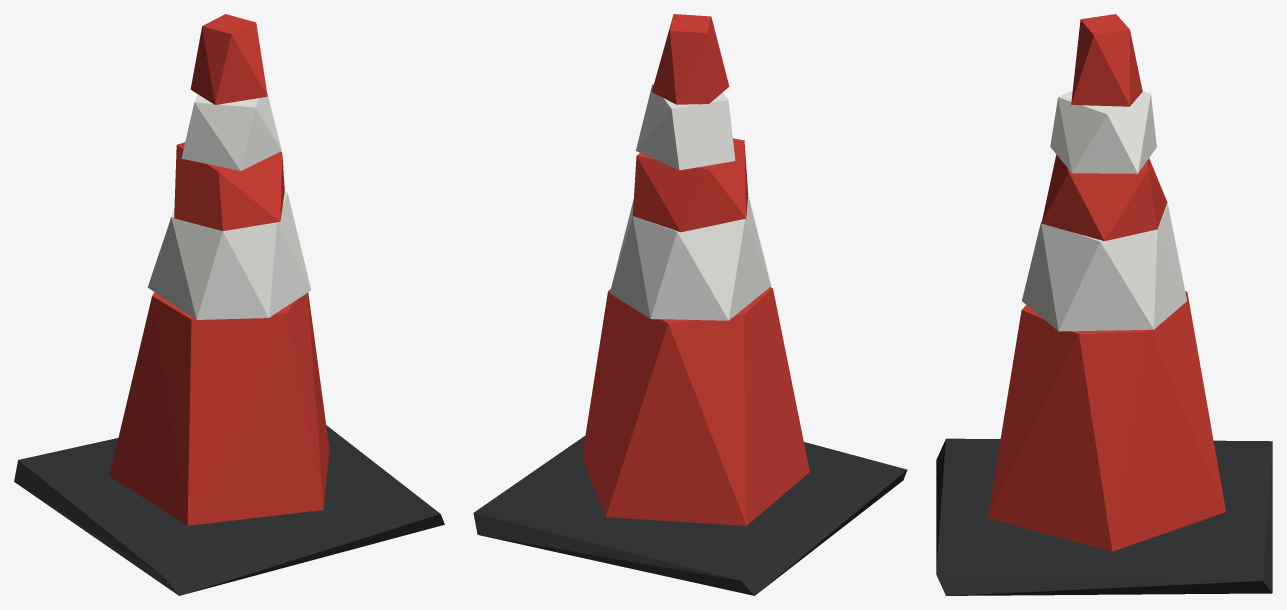
Rendered from traffic_cone_lod1.obj.
The picture shows the model from 3 angles, left to right: view 1: azimuth 30°, elevation 25°; view 2: azimuth 150°, elevation 25°; view 3: azimuth 270°, elevation 25°; orthographic projection. The views are drawn at different scales.
Visible parts, largest first — view 1: traffic_cone_lod1; view 2: traffic_cone_lod1; view 3: traffic_cone_lod1.
Part boxes in pixels (left/top/right/bottom): traffic_cone_lod1: left=14, top=14, right=444, bottom=595; traffic_cone_lod1: left=473, top=14, right=907, bottom=595; traffic_cone_lod1: left=936, top=14, right=1272, bottom=595.
Size of the model in its own units: 0.4164 by 0.686 by 0.416.
